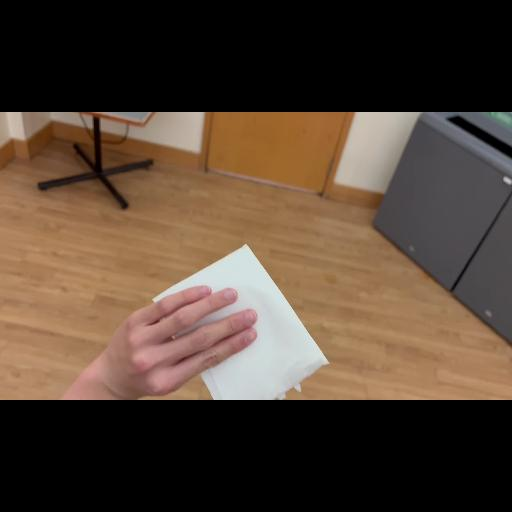napkin: (150, 242, 328, 400)
